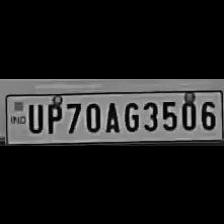0: (82, 99, 102, 133), (179, 96, 197, 130)
3: (141, 97, 159, 131)
5: (159, 96, 177, 132)
6: (198, 94, 216, 130)
7: (63, 98, 81, 134)
A: (102, 99, 120, 133)
G: (120, 97, 140, 131)
P: (43, 99, 63, 134)
U: (23, 100, 43, 134)
